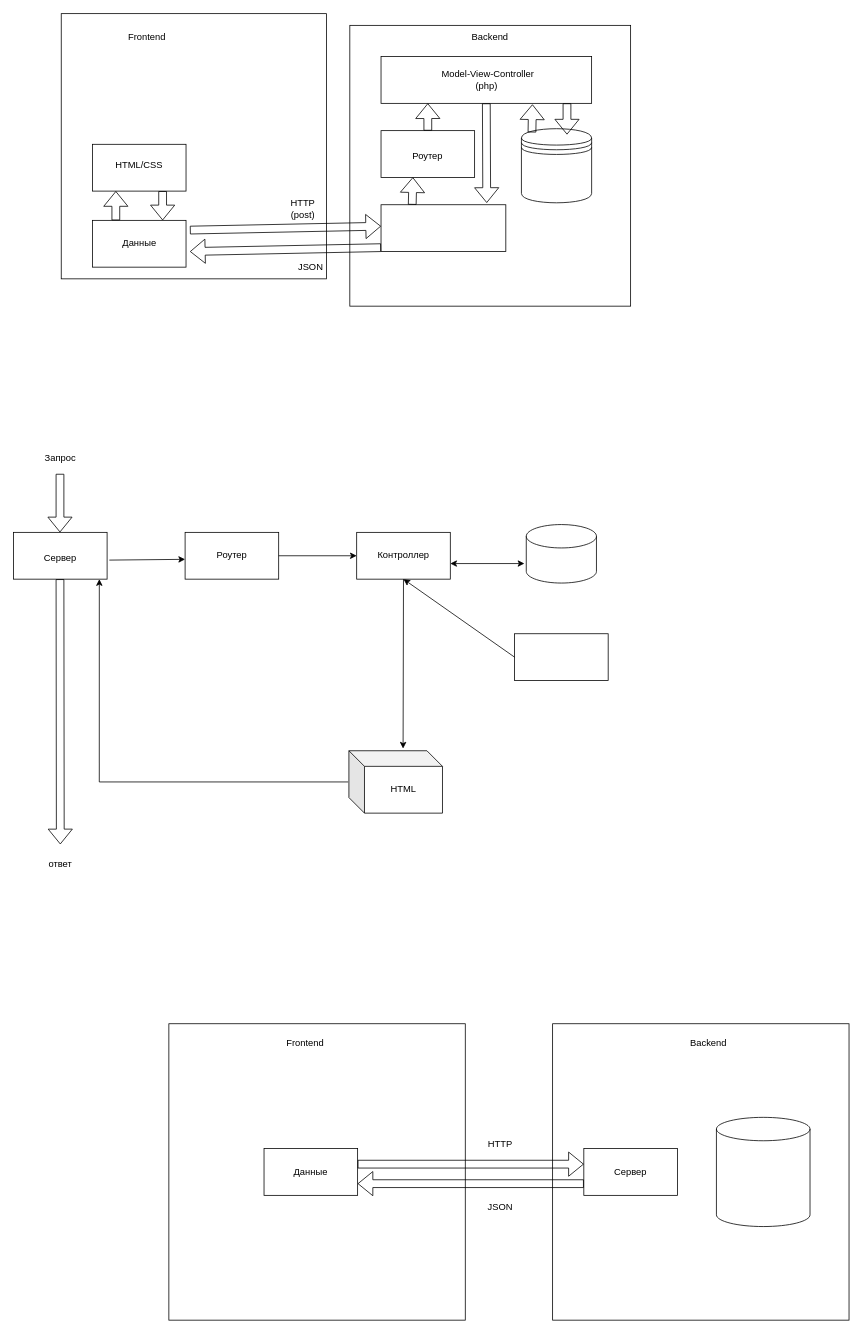
Image size: 863x1334. Some labels were removed from this diagram. Each missing label, with the centre of its shape:
"MySQL" belongs at (x=556, y=165).
"База данных" belongs at (x=763, y=1172).
"БД" belongs at (x=560, y=553).
"Модель" belongs at (x=561, y=657).
"Сервер (php)" belongs at (x=443, y=228).
